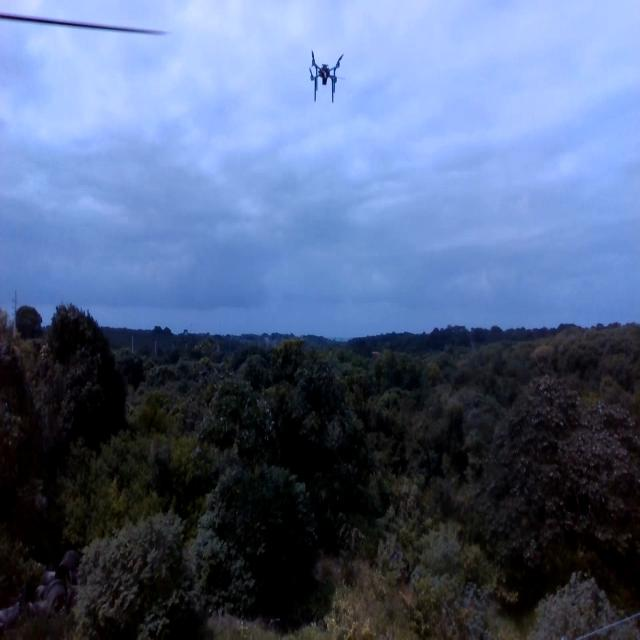-uav-: (301, 40, 351, 112)
